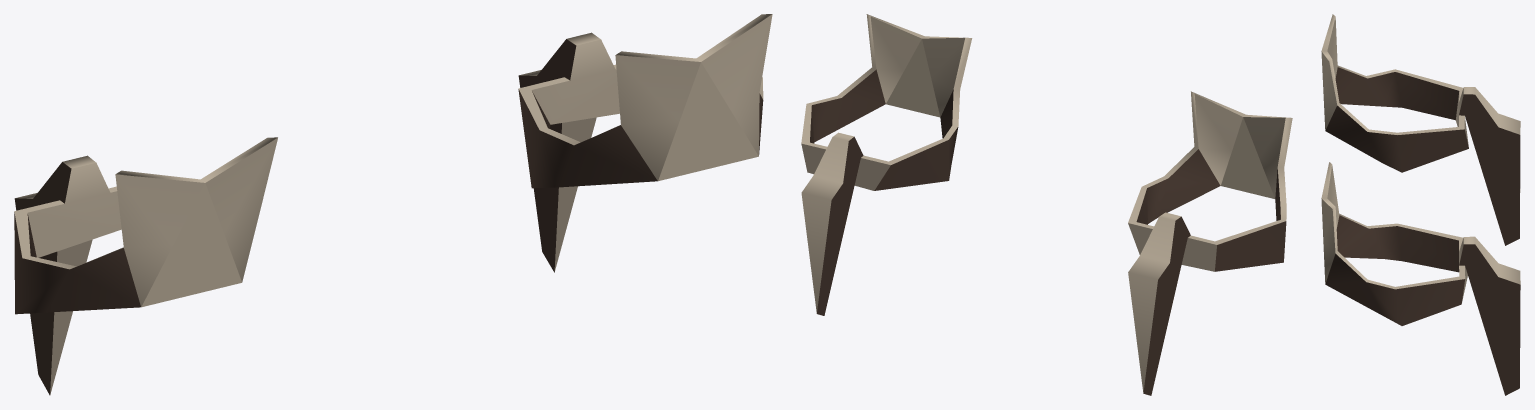
The model's file is WallJump_Model.fbx.
The picture shows the model from 3 angles, left to right: view 1: azimuth 30°, elevation 25°; view 2: azimuth 150°, elevation 25°; view 3: azimuth 270°, elevation 25°; orthographic projection. The views are drawn at different scales.
Parts seen in each view (by area): view 1: polySurface9; view 2: polySurface9; view 3: polySurface9.
Part boxes in pixels (bbox=[...]): polySurface9: bbox=[14, 14, 772, 395]; polySurface9: bbox=[801, 14, 1292, 395]; polySurface9: bbox=[1321, 14, 1520, 395].
Bounding box in the file's own units: 51.5 × 22.75 × 19.6.
Materials: 1 (1 with a texture image).
